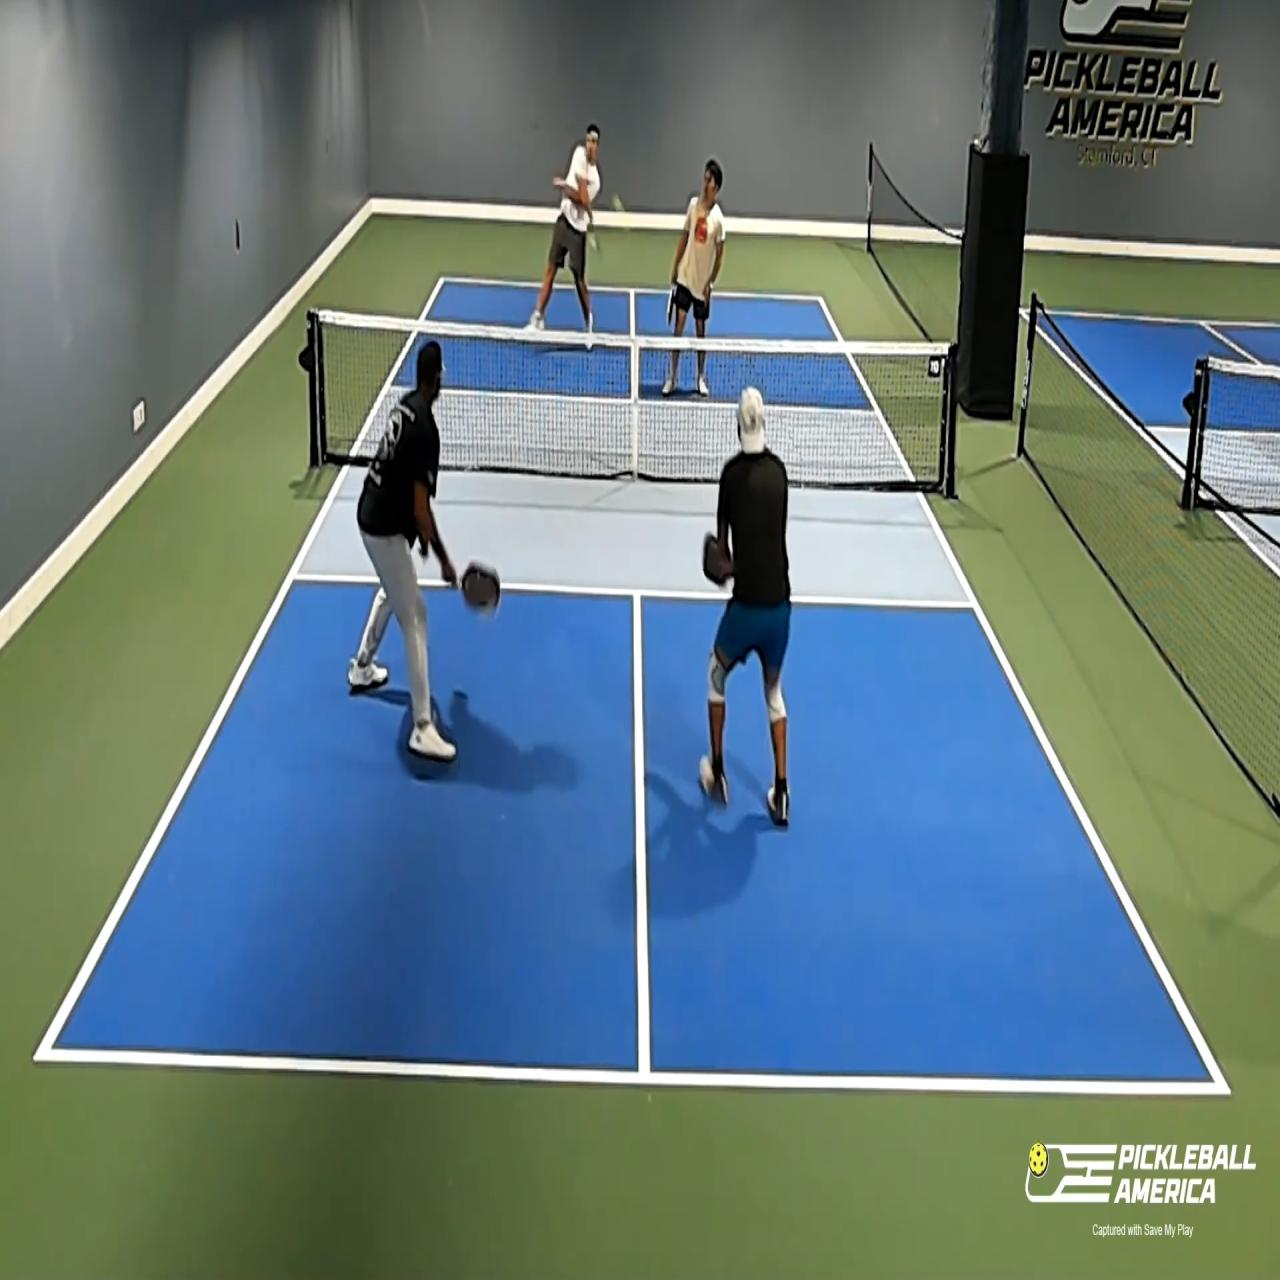Pickleball: (610, 193, 631, 236)
